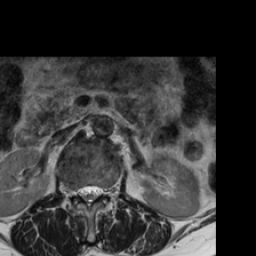CCS_normal: (85, 179, 93, 212)
LFS_normal: (101, 180, 110, 204)
LLS_normal: (93, 177, 101, 205)
RFS_normal: (69, 180, 77, 201)
RLS_normal: (77, 179, 85, 204)
